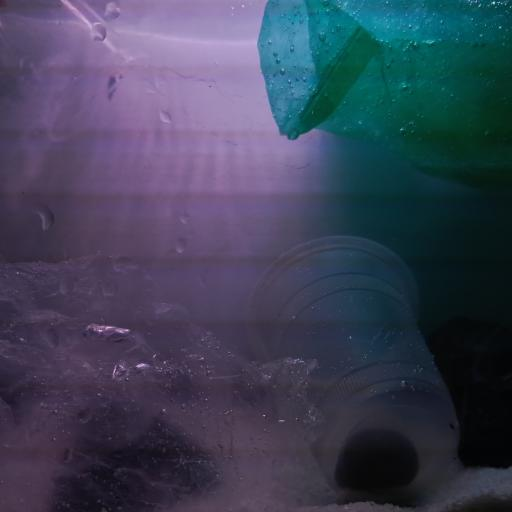plastic_bag: (0, 249, 341, 512), (256, 0, 512, 189)
plastic_cup: (244, 232, 462, 502), (1, 1, 150, 144)
